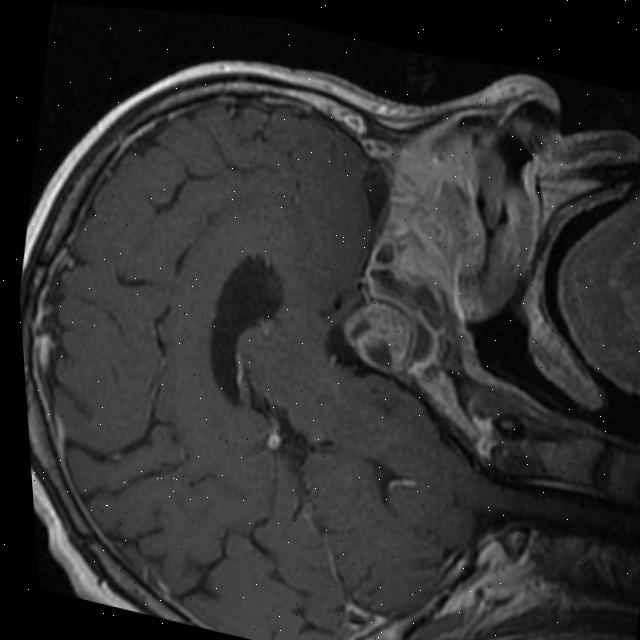Pituitary: (334, 292, 422, 379)
